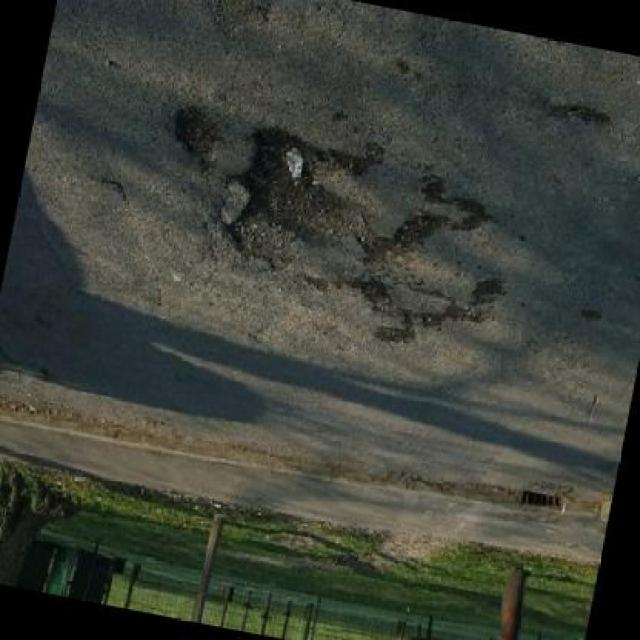pothole1: (211, 118, 383, 294), (362, 204, 446, 279), (162, 102, 230, 173)
